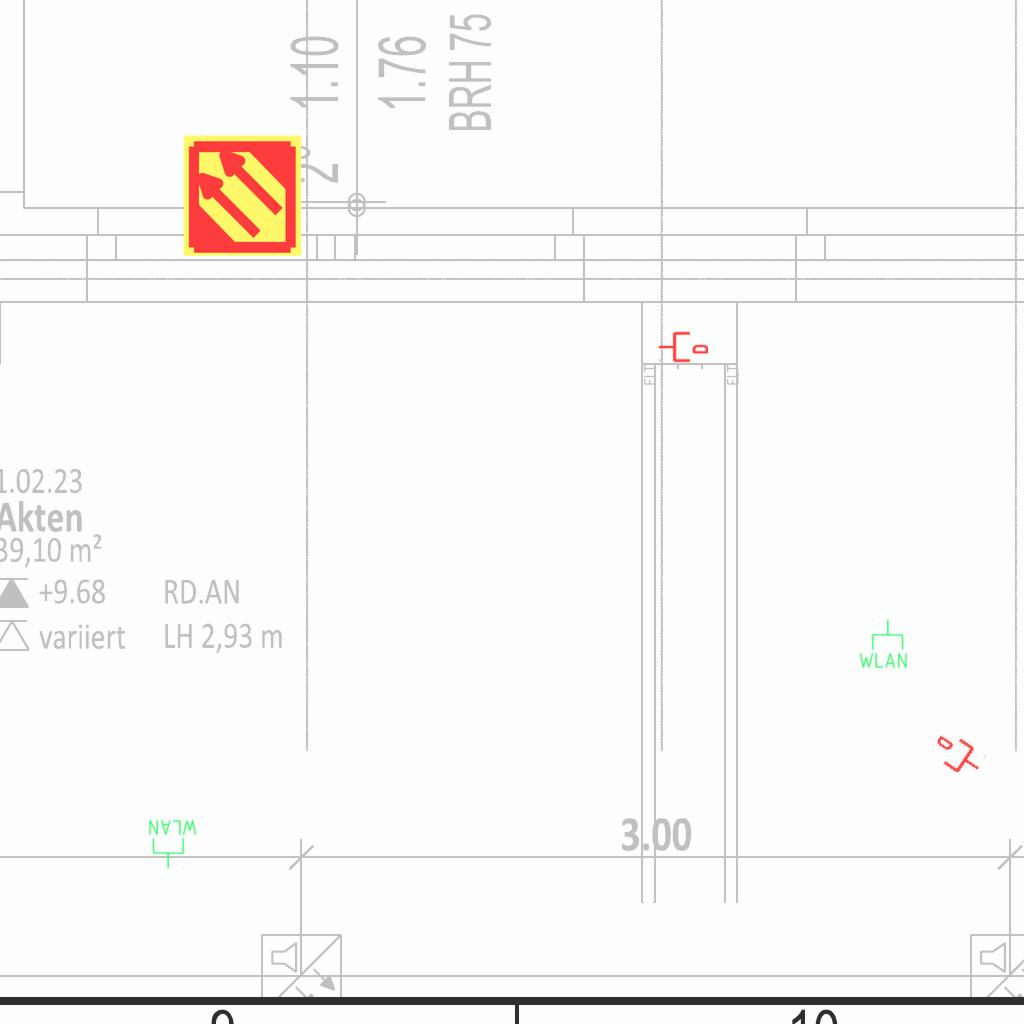ASR_Ansaugrauchmelder: (180, 133, 305, 258)
Datenanschluss_einfach: (927, 726, 989, 784), (658, 330, 708, 364)
WLAN: (857, 618, 909, 670), (147, 818, 199, 870)
